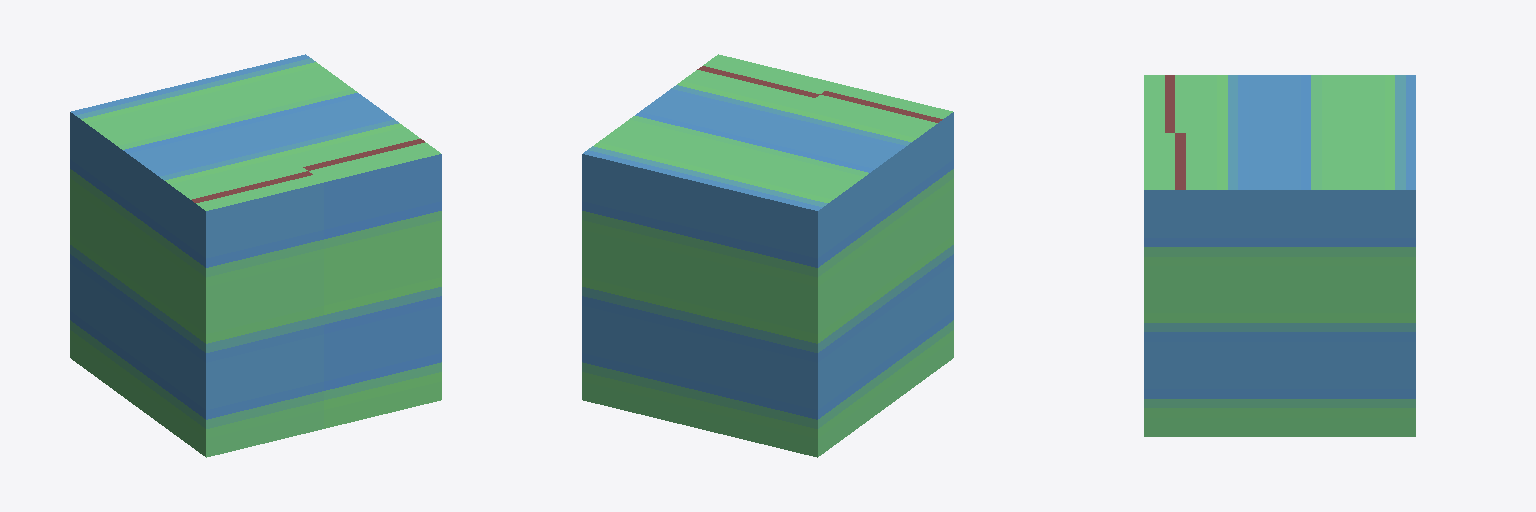
The picture shows the model from 3 angles: view 1: azimuth 30°, elevation 25°; view 2: azimuth 150°, elevation 25°; view 3: azimuth 270°, elevation 25°; orthographic projection.
Visible parts, largest first — view 1: cube; view 2: cube; view 3: cube.
Boxes of the visible parts, <box> form: cube: <box>70,54,441,457</box>; cube: <box>582,54,953,457</box>; cube: <box>1144,75,1415,436</box>.
Size of the model in its own units: 0.125 by 0.125 by 0.125.
1 materials, 1 textured.